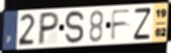2: (18, 12, 37, 48)
8: (89, 9, 105, 44)
F: (110, 8, 133, 42)
P: (36, 11, 61, 47)
S: (64, 9, 86, 46)
Z: (133, 6, 153, 42)
